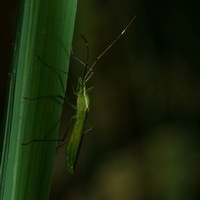insect: (66, 15, 136, 172)
